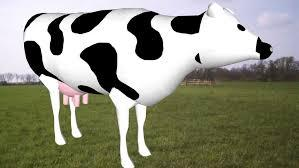cow: (22, 2, 274, 168)
